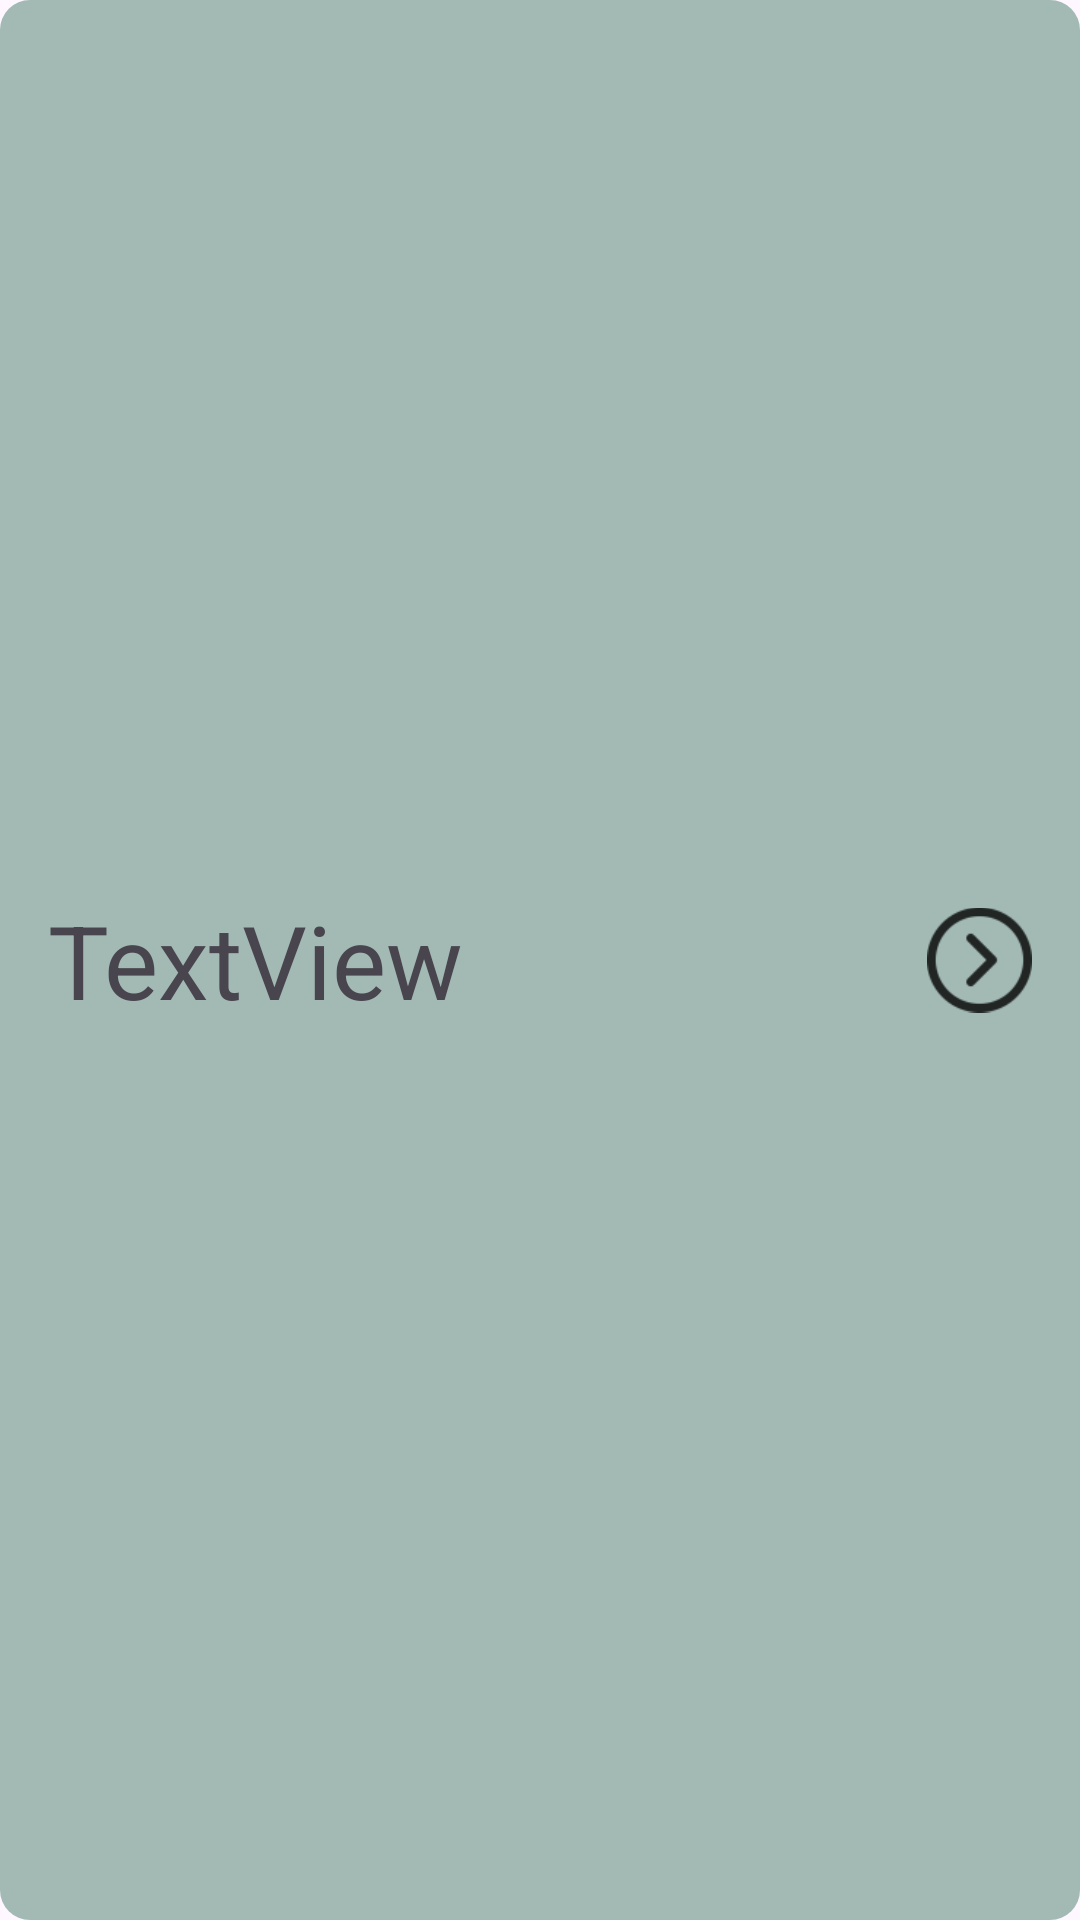

Screen size 1080×1920. Icon name, then its box in pixels as (left=x1, top=y1, right=x2, bottom=y2):
next: (left=927, top=908, right=1032, bottom=1013)
